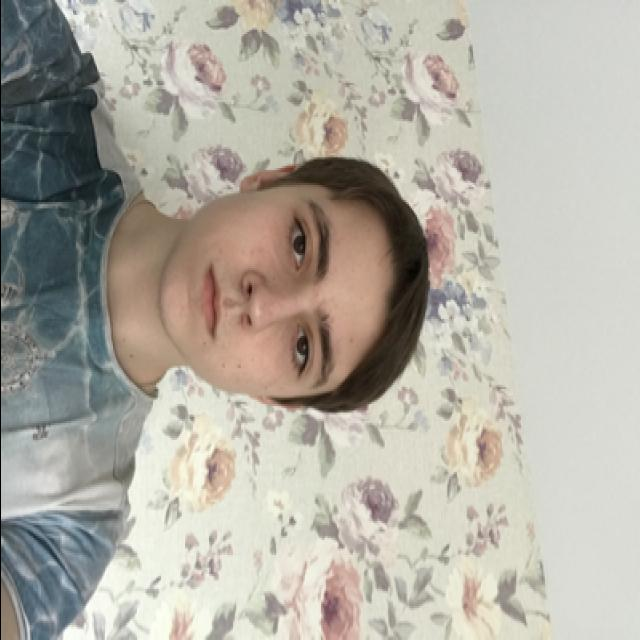no_mask: (155, 180, 339, 398)
